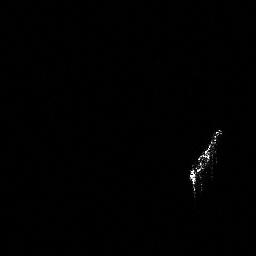ship: (185, 127, 224, 200)
